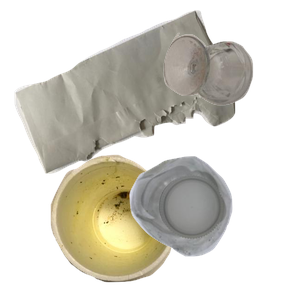glass: (161, 30, 300, 128)
paper: (12, 10, 240, 176)
plastic: (127, 154, 300, 300)
trash: (48, 152, 219, 300)
